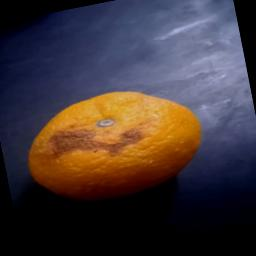Orange Unripe: (16, 64, 216, 212)
